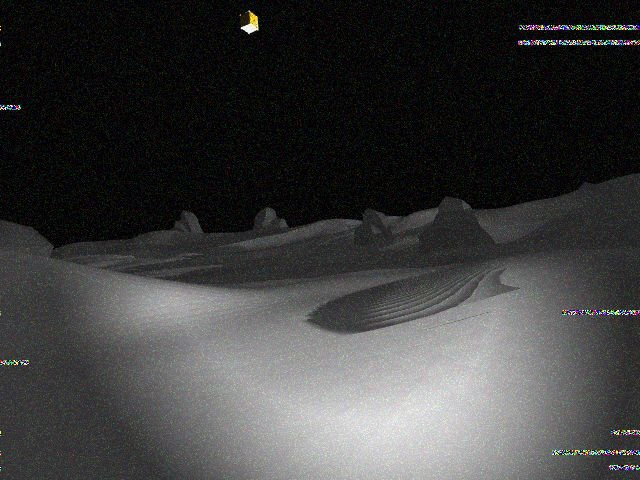cubesat: (233, 8, 263, 37)
